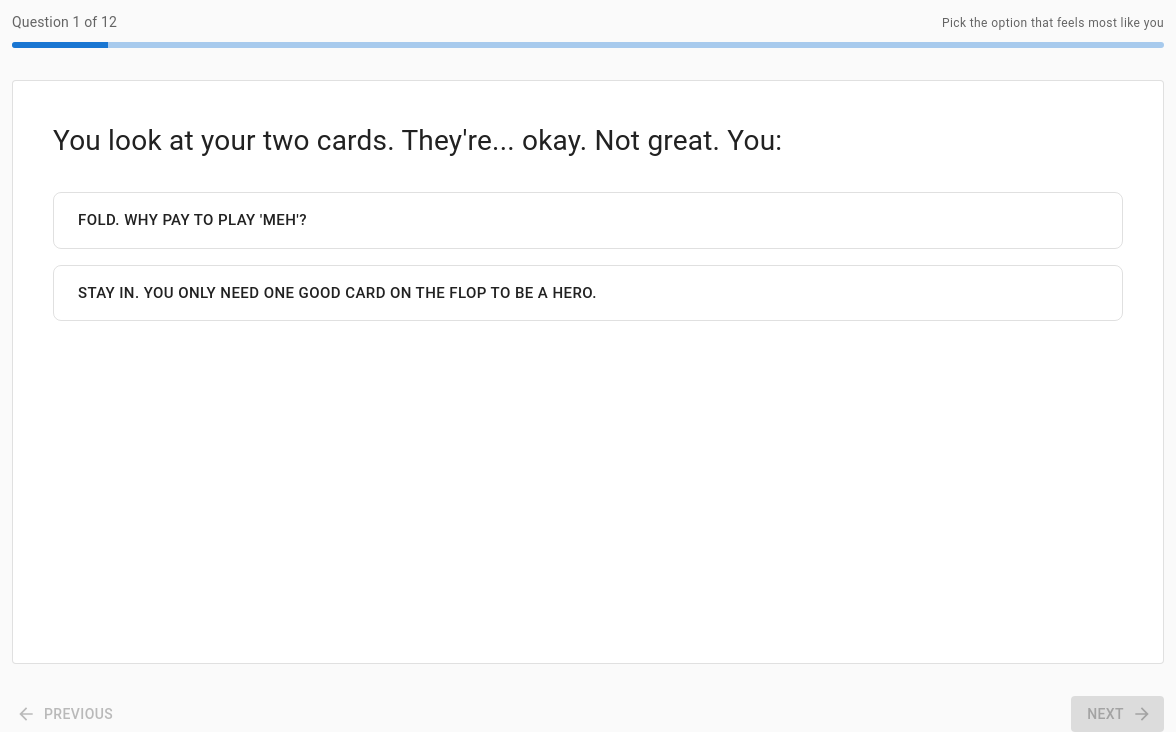
Test case: WizardPage › going back preserves the previously chosen option
Click the button with test id "wizard-option-1": [588, 293] box top-left (53, 265), bottom-right (1123, 321)
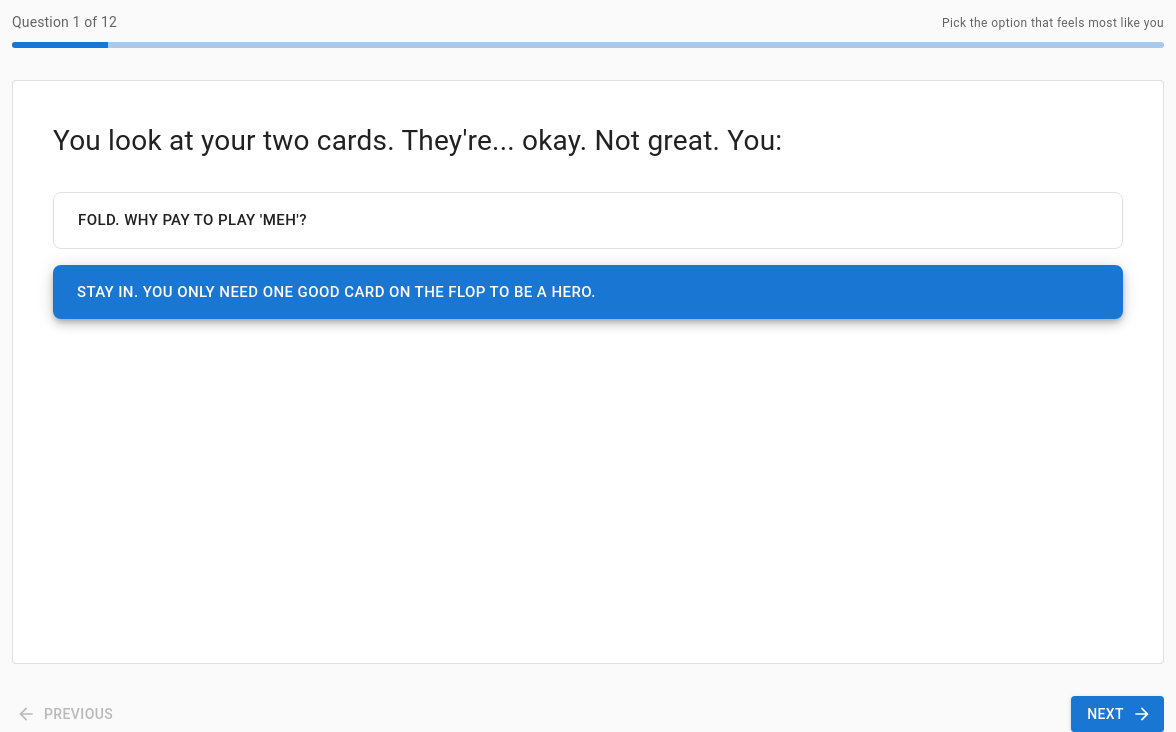
Click the button with test id "wizard-next-button": [1118, 714] box top-left (1071, 696), bottom-right (1164, 731)
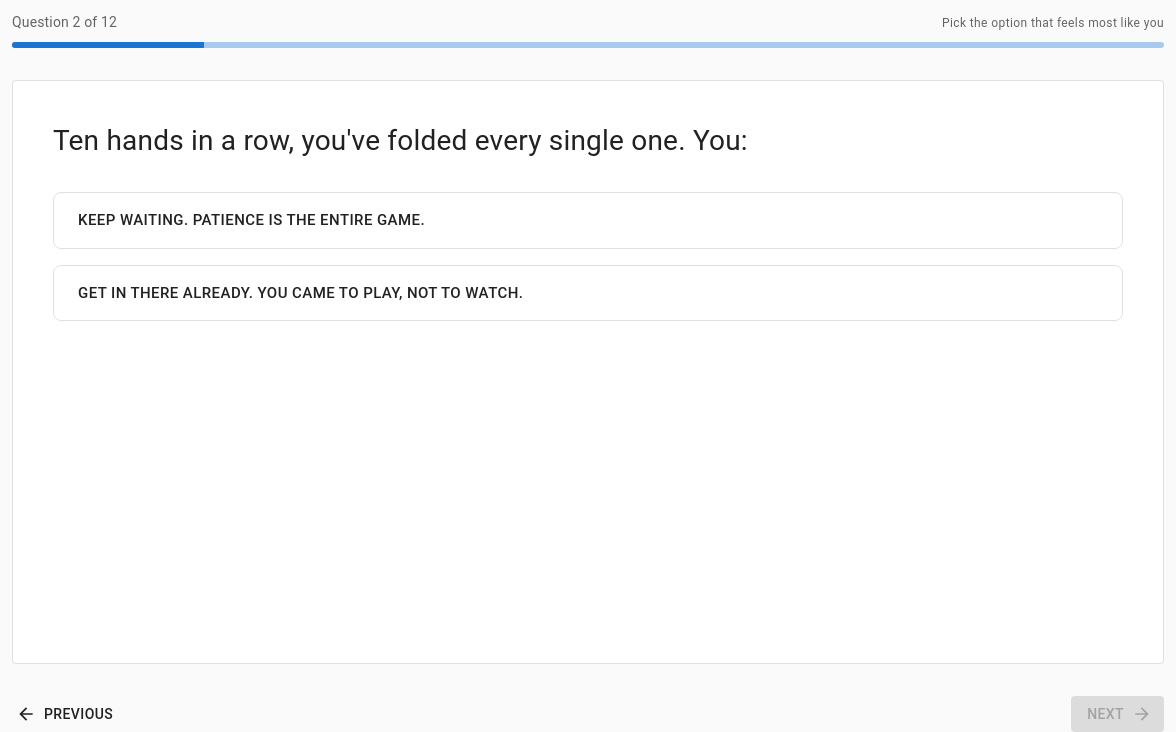
Click the button with test id "wizard-prev-button": [67, 714] box top-left (12, 696), bottom-right (121, 731)
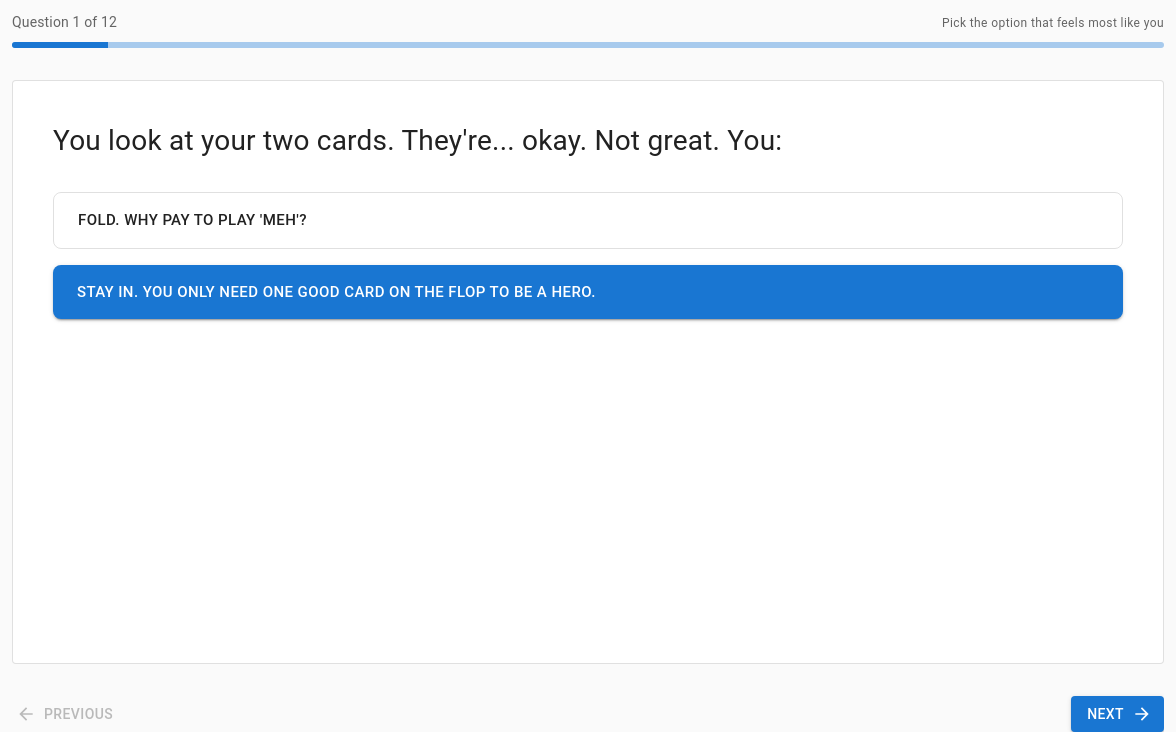
Expected: the button with test id "wizard-next-button" is enabled, top-left (1071, 696), bottom-right (1164, 731)
